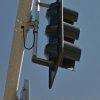Traffic light: (32, 3, 83, 84)
